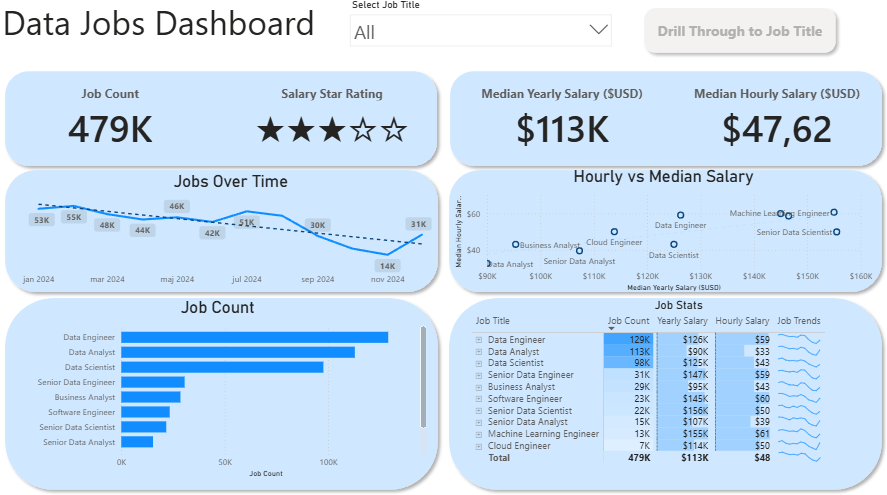

The dashboard page shown, as its layout file describes it:
{"tool":"powerbi","page":{"name":"Data Jobs Dashboard","canvas":[1280,720],"ordinal":0},"visuals":[{"type":"group","id":"g1","title":"Background","box":[0,100.3,1280.3,620],"z":0},{"type":"textbox","box":[0,0,495.2,100.3],"z":1000},{"type":"slicer","fields":{"Values":["job_postings_flat.job_title_short"]},"box":[495.2,0,397.4,100.3],"z":2000},{"type":"cardVisual","fields":{"Data":["CountNonNull(job_postings_flat.job_title_short)"]},"box":[0,103.9,320.4,146.7],"z":3000},{"type":"cardVisual","fields":{"Data":["job_postings_flat.Salary Star Rating"]},"box":[320.4,103.9,320.4,146.7],"z":4000},{"type":"cardVisual","fields":{"Data":["Median(job_postings_flat.salary_year_avg)"]},"box":[650.5,103.9,320.4,146.7],"z":5000},{"type":"cardVisual","fields":{"Data":["Median(job_postings_flat.salary_hour_avg)"]},"box":[959.9,103.9,320.4,146.7],"z":6000},{"type":"lineChart","title":"Jobs Over Time","fields":{"Y":["CountNonNull(job_postings_flat.job_title_short)"],"Category":["job_postings_flat.job_posted_date.Variation.Date Hierarchy.Year","job_postings_flat.job_posted_date.Variation.Date Hierarchy.Quarter","job_postings_flat.job_posted_date.Variation.Date Hierarchy.Month","job_postings_flat.job_posted_date.Variation.Date Hierarchy.Day"]},"box":[29.3,254.3,610.2,172.4],"z":7000},{"type":"barChart","title":"Job Count","fields":{"Category":["job_postings_flat.job_title_short"],"Y":["CountNonNull(job_postings_flat.job_title_short)"]},"box":[9.8,436.6,610.2,262.9],"z":8000},{"type":"scatterChart","title":"Hourly vs Median Salary","fields":{"X":["Median(job_postings_flat.salary_year_avg)"],"Y":["Median(job_postings_flat.salary_hour_avg)"],"Series":["job_postings_flat.job_title_short"]},"box":[650.5,248.2,612.6,183.4],"z":9000},{"type":"shape","box":[0,100.3,639.5,154.1],"z":10000,"group":"g1"},{"type":"pivotTable","title":"Job Stats","fields":{"Rows":["job_postings_flat.job_title_short","job_postings_flat.job_posted_date.Variation.Date Hierarchy.Quarter"],"Values":["CountNonNull(job_postings_flat.job_title_short)","Median(job_postings_flat.salary_year_avg)","Median(job_postings_flat.salary_hour_avg)","SparklineData(CountNonNull(job_postings_flat.job_title_short)_[job_postings_flat.job_posted_date.Variation.Date Hierarch"]},"box":[676.2,436.6,604.1,262.9],"z":10000},{"type":"actionButton","title":"Drill Through to Job title","box":[920.8,9.8,293.5,81.9],"z":11000},{"type":"shape","box":[640.8,100.3,639.5,154.1],"z":11000,"group":"g1"},{"type":"shape","box":[0,243.4,640.8,193.2],"z":12000,"group":"g1"},{"type":"shape","box":[639.5,243.4,640.8,193.2],"z":13000,"group":"g1"},{"type":"shape","box":[0,426.8,640.8,293.5],"z":14000,"group":"g1"},{"type":"shape","box":[639.5,426.8,640.8,293.5],"z":15000,"group":"g1"}]}

Visuals, with their boxes in screenshot pixels (x1, y1, x2, y2), scaled from the page's 1280x720 canvas onto the 887x495 screenshot:
"Background" group: bbox=(0, 69, 886, 494)
textbox: bbox=(0, 0, 343, 69)
slicer - job_postings_flat.job_title_short: bbox=(343, 0, 619, 69)
cardVisual - CountNonNull(job_postings_flat.job_title_short): bbox=(0, 71, 222, 172)
cardVisual - job_postings_flat.Salary Star Rating: bbox=(222, 71, 444, 172)
cardVisual - Median(job_postings_flat.salary_year_avg): bbox=(451, 71, 673, 172)
cardVisual - Median(job_postings_flat.salary_hour_avg): bbox=(665, 71, 886, 172)
"Jobs Over Time" lineChart: bbox=(20, 175, 443, 293)
"Job Count" barChart: bbox=(7, 300, 430, 481)
"Hourly vs Median Salary" scatterChart: bbox=(451, 171, 875, 297)
shape: bbox=(0, 69, 443, 175)
"Job Stats" pivotTable: bbox=(469, 300, 886, 481)
"Drill Through to Job title" actionButton: bbox=(638, 7, 841, 63)
shape: bbox=(444, 69, 886, 175)
shape: bbox=(0, 167, 444, 300)
shape: bbox=(443, 167, 886, 300)
shape: bbox=(0, 293, 444, 494)
shape: bbox=(443, 293, 886, 494)
